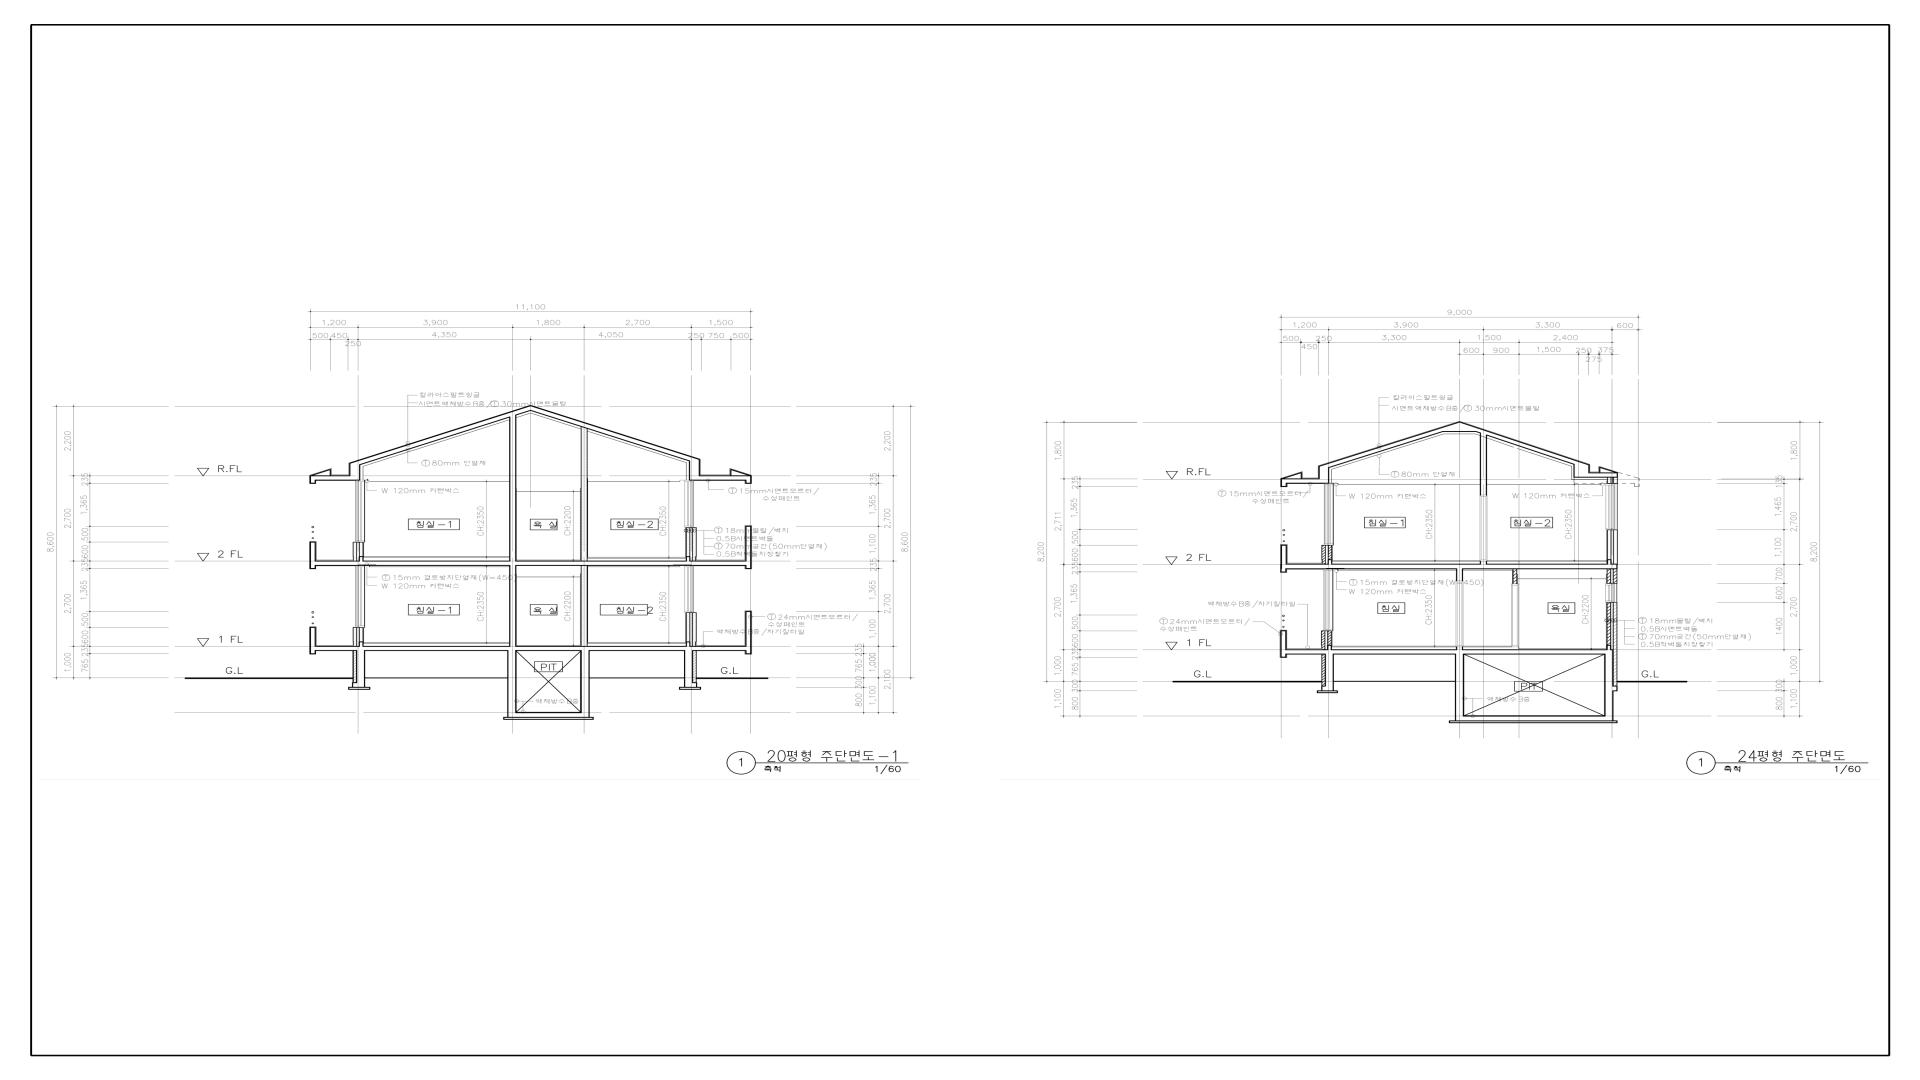door: (1456, 580, 1464, 647), (1480, 495, 1487, 562), (1511, 584, 1519, 647)
wall: (349, 405, 530, 465), (530, 405, 700, 462), (1319, 422, 1460, 468), (1460, 422, 1576, 464), (316, 646, 745, 651), (316, 560, 745, 566), (1287, 563, 1618, 570), (1287, 649, 1614, 654), (509, 415, 517, 560), (582, 427, 588, 560), (1455, 715, 1605, 720), (1573, 460, 1618, 477), (1280, 472, 1329, 487), (509, 566, 517, 646), (580, 566, 588, 646), (1455, 654, 1464, 715), (508, 651, 517, 712), (580, 651, 589, 712), (1321, 654, 1335, 691), (1480, 434, 1487, 495), (508, 712, 589, 717), (1606, 603, 1614, 649), (686, 612, 696, 646), (686, 527, 696, 560), (1607, 530, 1618, 563), (1605, 654, 1614, 691), (700, 475, 745, 481), (745, 611, 752, 654), (316, 475, 360, 481), (745, 526, 752, 570), (356, 651, 365, 682), (684, 651, 694, 682), (1605, 691, 1614, 720), (690, 459, 700, 481), (353, 628, 364, 646), (353, 542, 364, 560), (1280, 545, 1287, 572), (310, 626, 316, 654), (310, 542, 316, 570), (1280, 630, 1287, 658), (1324, 630, 1332, 649), (349, 463, 360, 475), (1325, 545, 1332, 563), (1319, 468, 1329, 479), (1456, 570, 1464, 580), (1513, 570, 1518, 584), (352, 682, 365, 687), (684, 682, 698, 687), (1607, 477, 1618, 484), (745, 475, 752, 484), (310, 475, 316, 484), (1610, 570, 1614, 583), (1614, 686, 1618, 691), (1456, 647, 1464, 649), (1480, 562, 1487, 563)
window: (355, 566, 365, 628), (355, 481, 365, 542), (1324, 483, 1333, 546), (1324, 570, 1333, 630), (1606, 484, 1618, 530), (684, 481, 694, 527), (684, 566, 694, 612), (1605, 583, 1617, 603)
